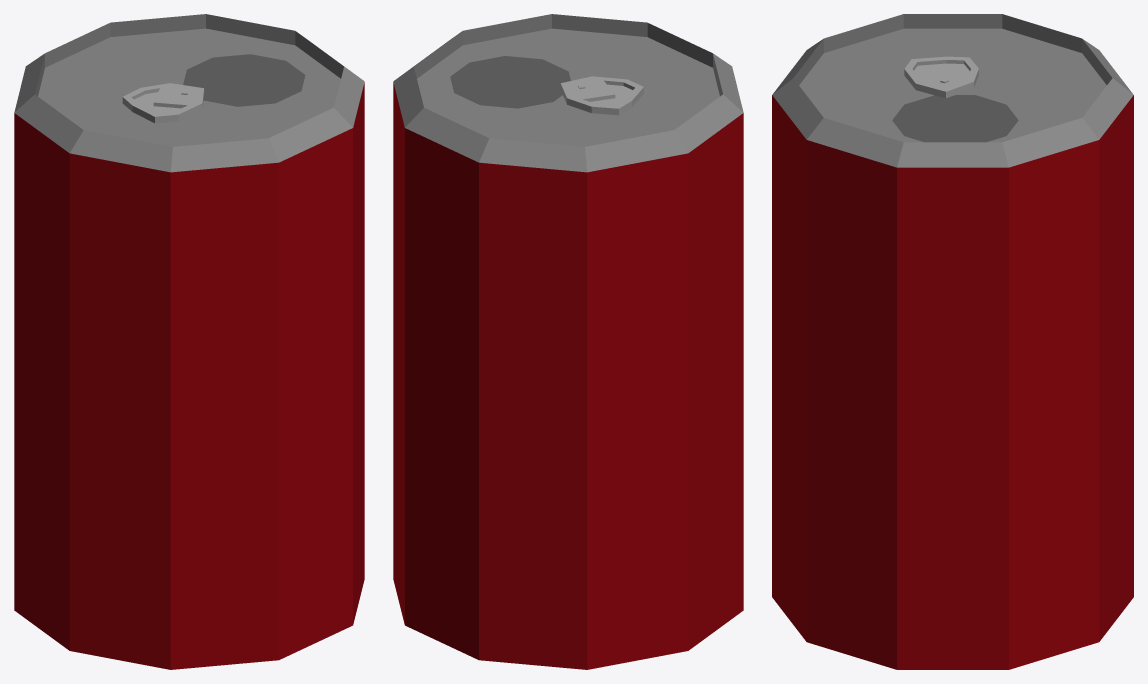
Rendered from fizzyd.fbx.
3 renders of one model, left to right at view 1: azimuth 30°, elevation 25°; view 2: azimuth 150°, elevation 25°; view 3: azimuth 270°, elevation 25°, orthographic.
Parts seen in each view (by area): view 1: Cylinder, Cube; view 2: Cylinder, Cube; view 3: Cylinder, Cube.
Boxes of the visible parts, left/top/right/bottom form: Cylinder: left=14, top=14, right=364, bottom=669; Cube: left=122, top=83, right=204, bottom=123; Cylinder: left=393, top=14, right=743, bottom=669; Cube: left=560, top=76, right=643, bottom=115; Cylinder: left=772, top=14, right=1133, bottom=669; Cube: left=904, top=56, right=978, bottom=98.
Bounding box in the file's own units: 190 × 317 × 200.
